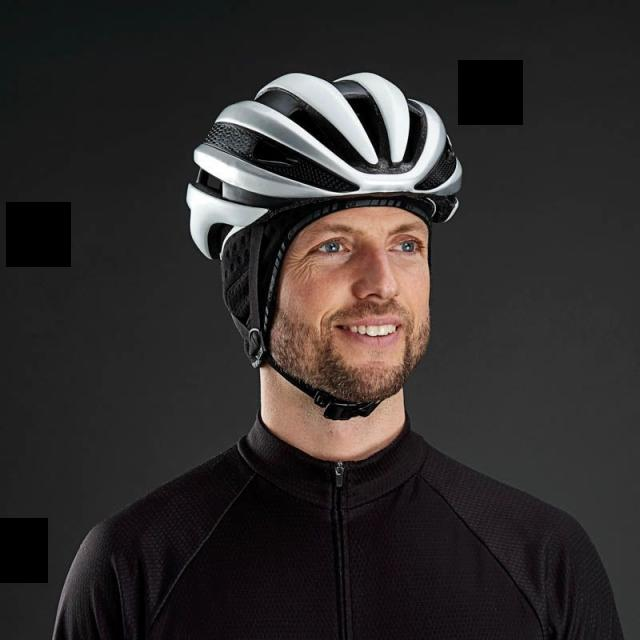Helmet: (186, 69, 464, 406)
